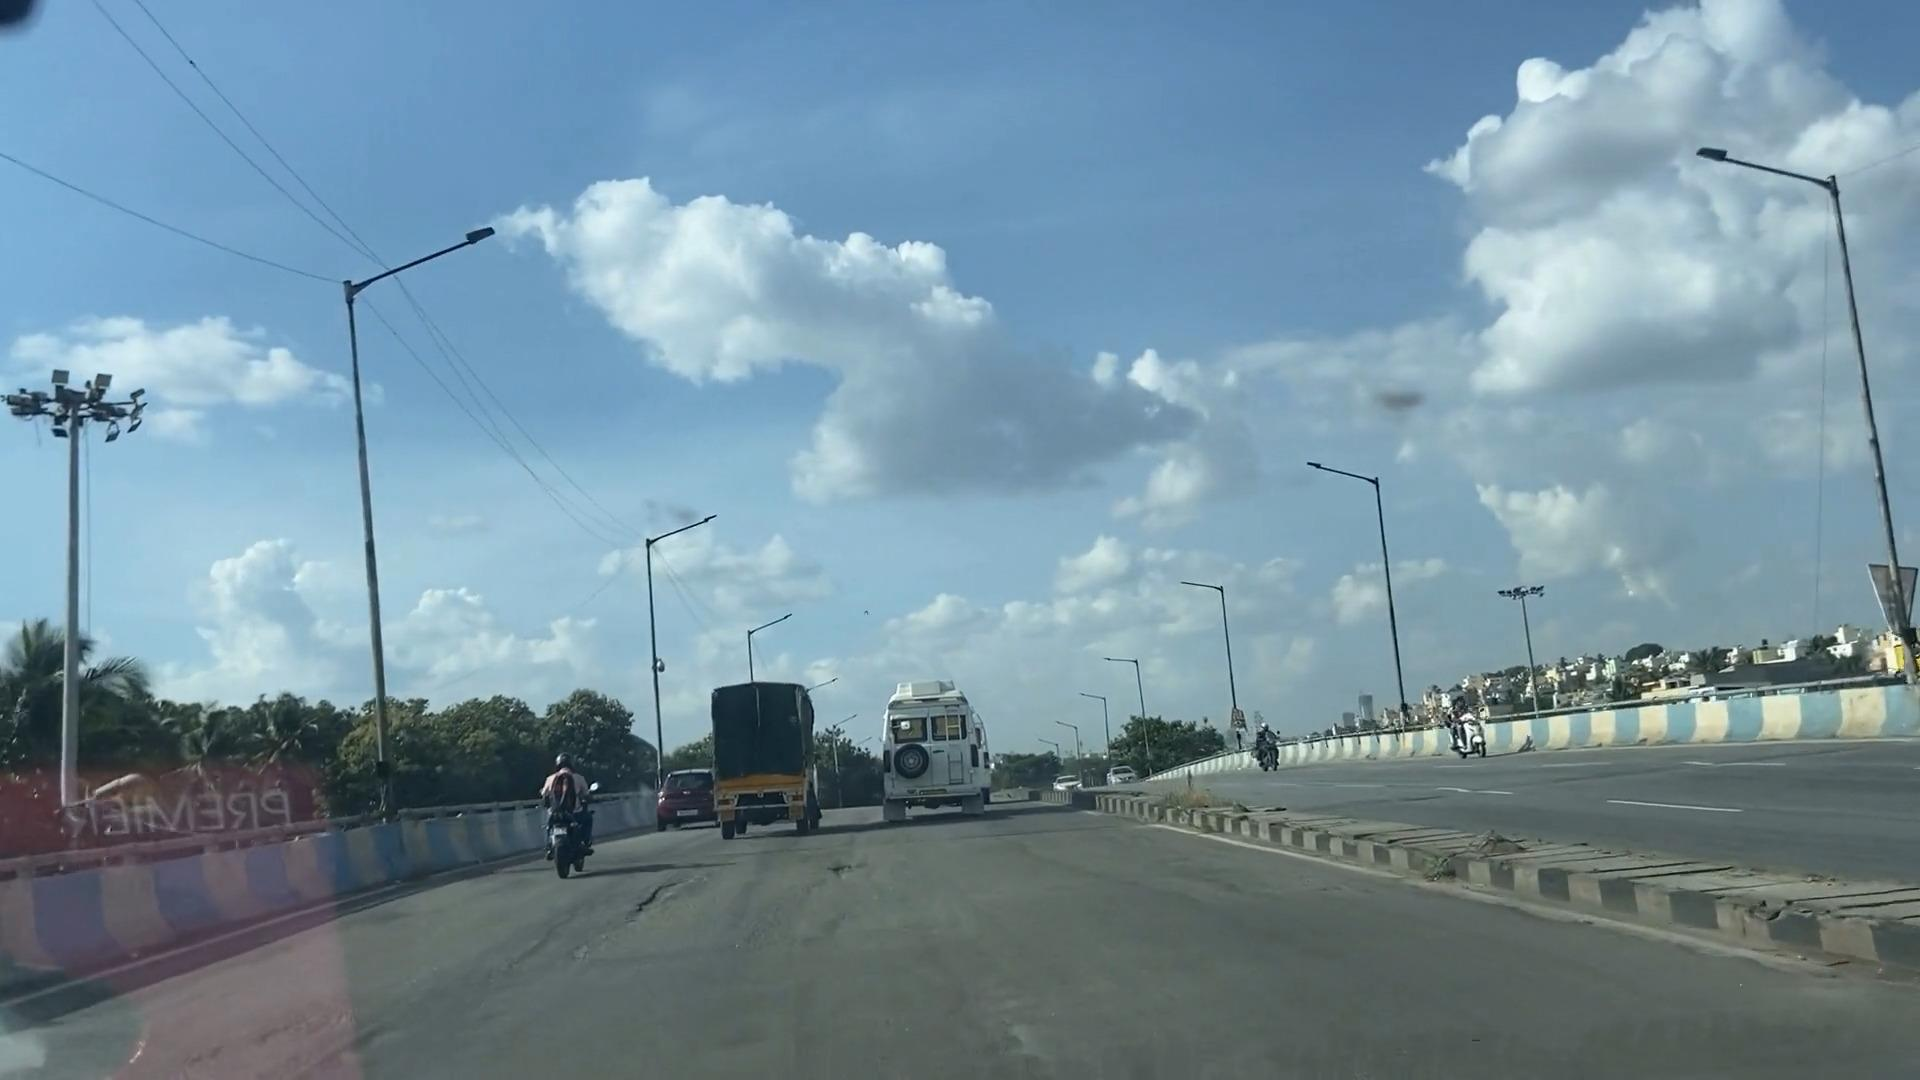HMV: (700, 674, 833, 829), (885, 680, 992, 828)
LMV: (525, 746, 588, 866), (667, 767, 724, 833)
RoadDamages: (630, 852, 924, 981), (905, 959, 1060, 1055)
